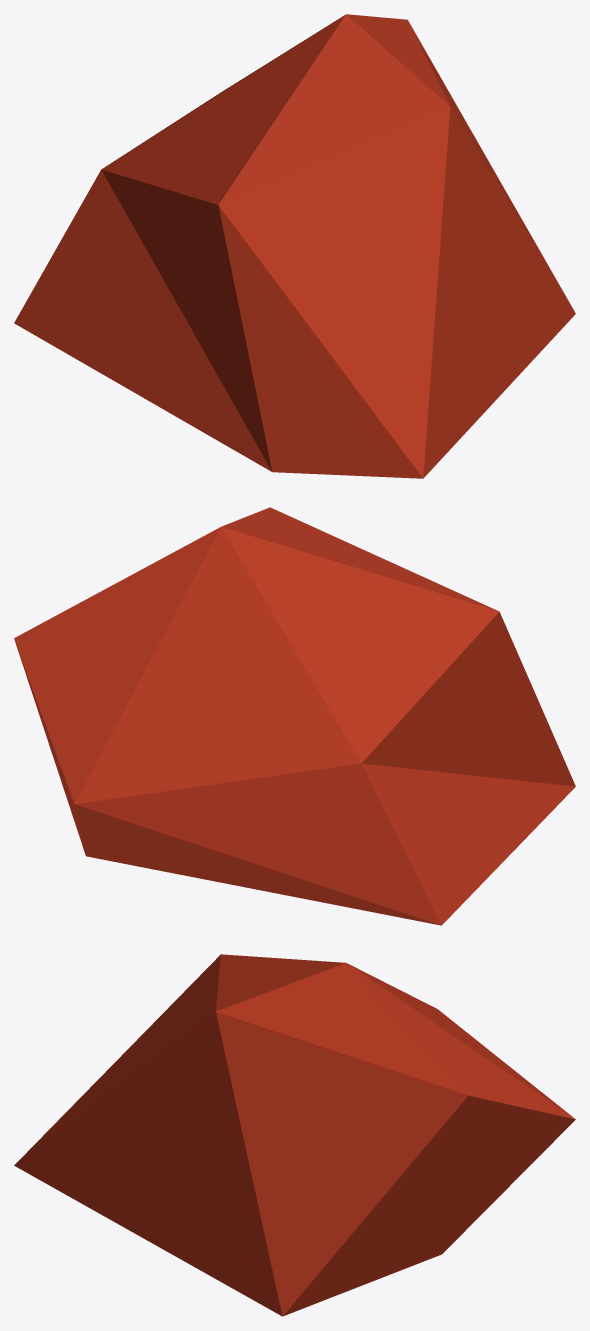
Rendered from M_R_Rock1.FBX.
3 renders of one model, top to bottom at view 1: azimuth 30°, elevation 25°; view 2: azimuth 150°, elevation 25°; view 3: azimuth 270°, elevation 25°, orthographic. The views are drawn at different scales.
Visible parts, largest first — view 1: GeoSphere064; view 2: GeoSphere064; view 3: GeoSphere064.
Boxes of the visible parts, left/top/right/bottom form: GeoSphere064: left=14, top=14, right=575, bottom=478; GeoSphere064: left=14, top=507, right=575, bottom=925; GeoSphere064: left=14, top=954, right=575, bottom=1316.
Bounding box in the file's own units: 296 × 193 × 360.
